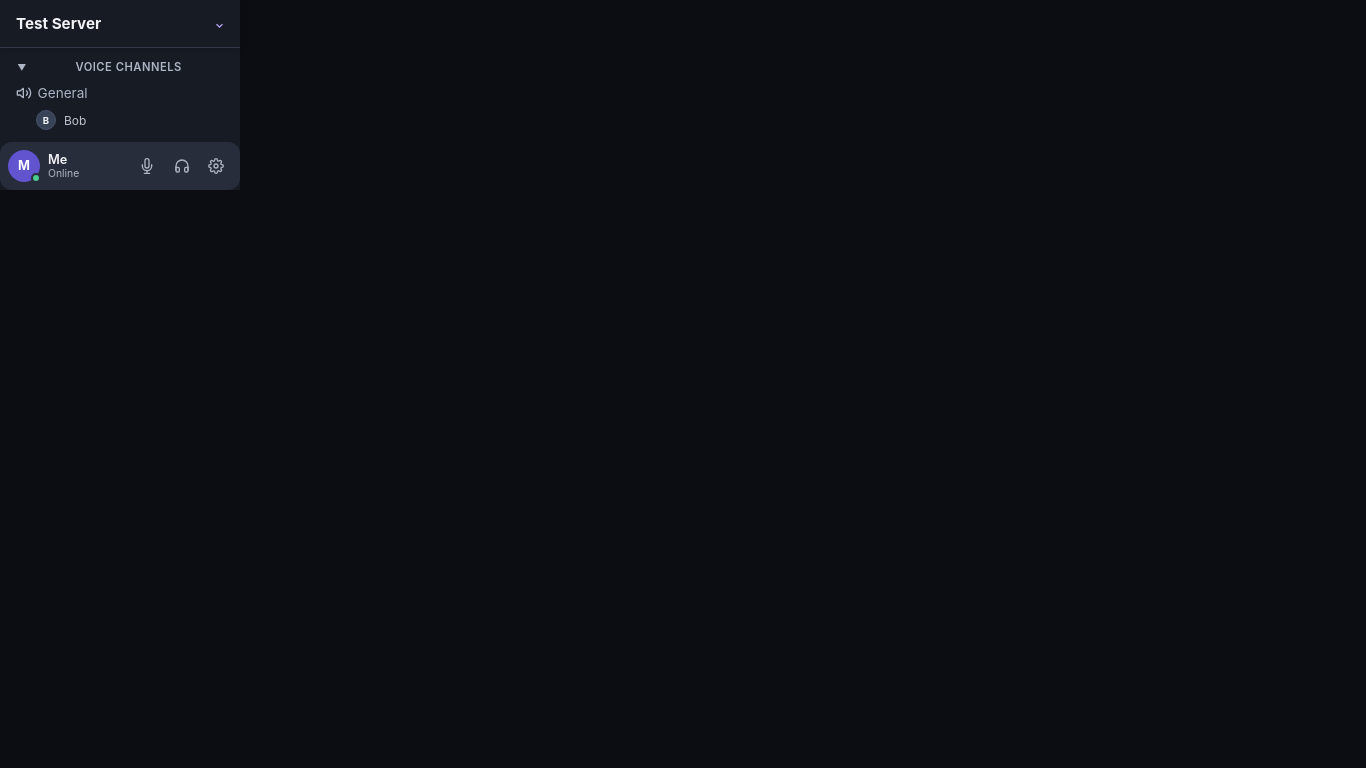
Scenario: Voice participant popover › F6-C2B-POPOVER-01: right-click opens accessible remote personal-mix controls
Right-click the list item with aria-label "Bob, not speaking" at (61, 120), box top-left (36, 110), bottom-right (86, 130)
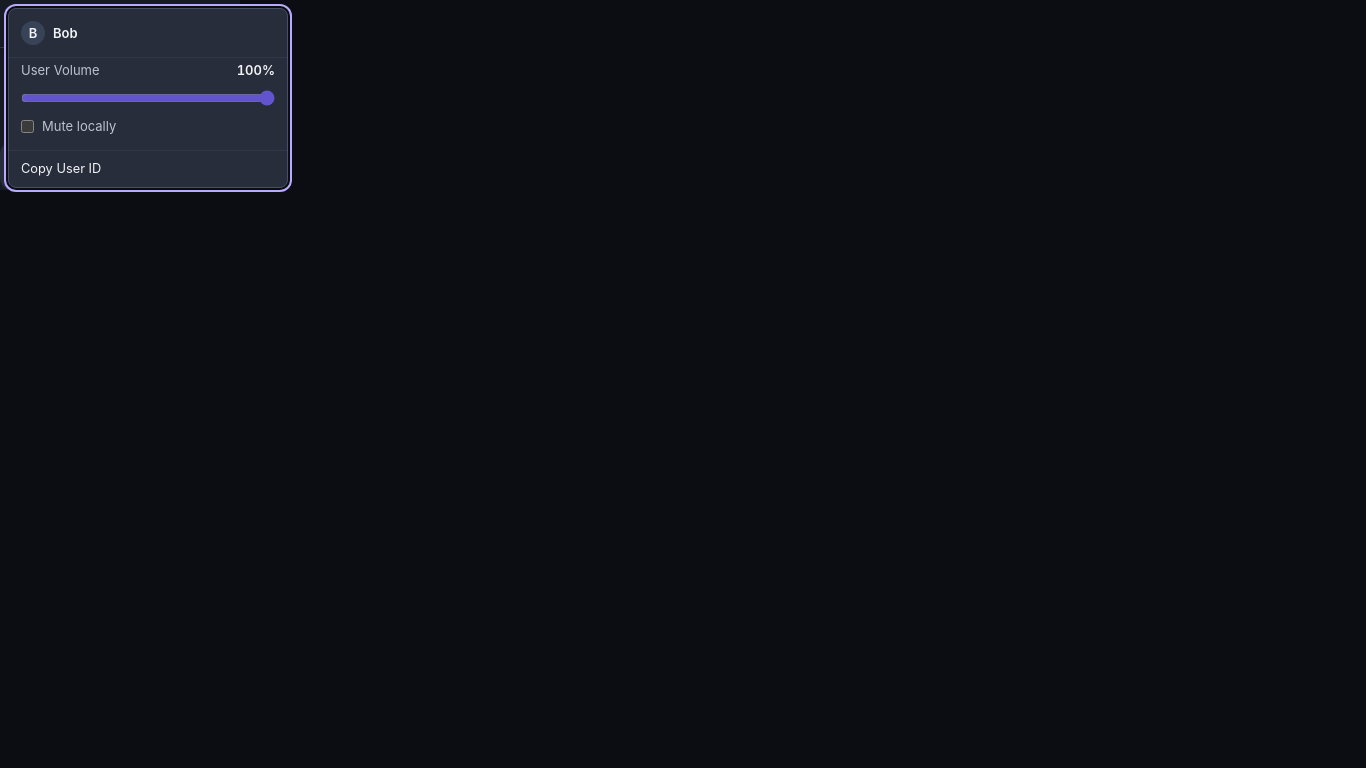
Result: the dialog named "Voice participant: Bob" is shown at top-left (8, 8), bottom-right (288, 188)
Result: the slider named "Volume for Bob" holds "100" at top-left (21, 90), bottom-right (275, 106)
Result: the text "100%" is shown at top-left (237, 62), bottom-right (275, 78)
